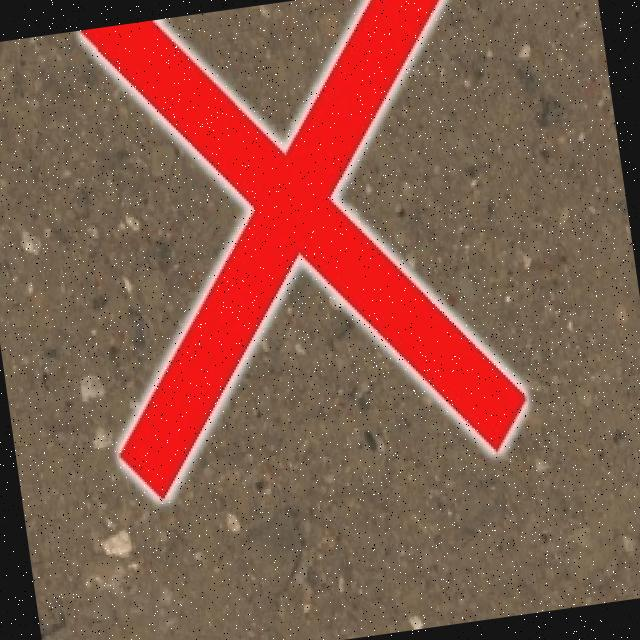x_marker: (60, 0, 530, 503)
